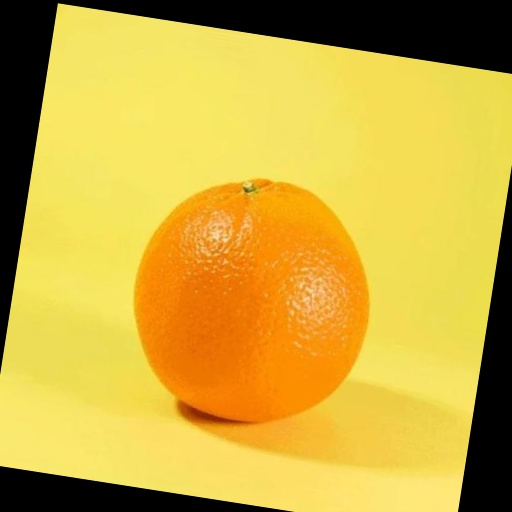fruit: (134, 179, 368, 421)
